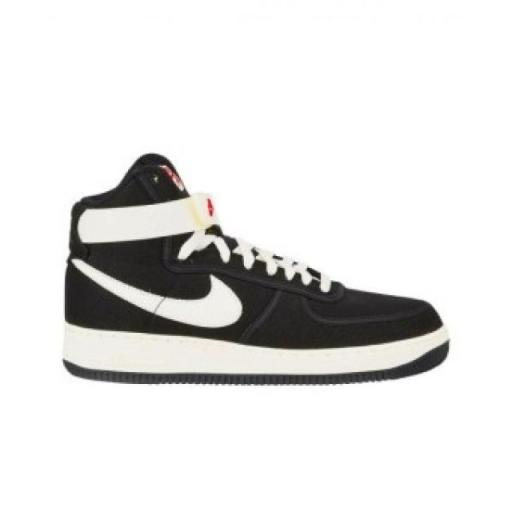Nike: (64, 256, 254, 334)
